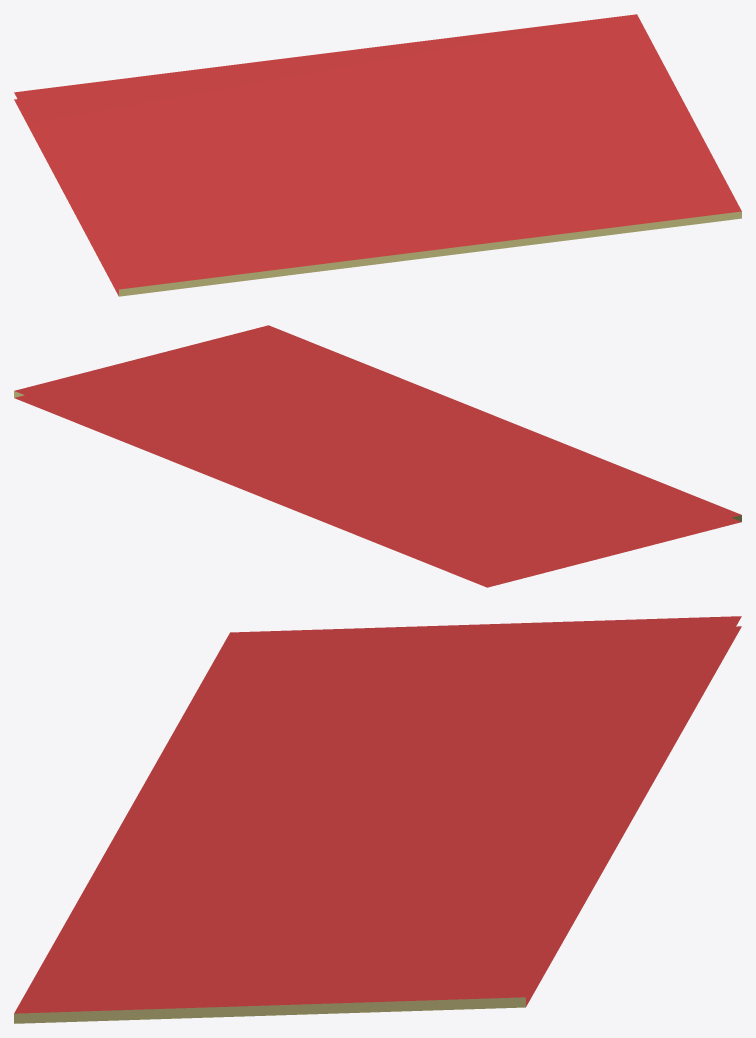
The picture shows the model from 3 angles, top to bottom: view 1: azimuth 30°, elevation 25°; view 2: azimuth 150°, elevation 25°; view 3: azimuth 270°, elevation 25°; orthographic projection. The views are drawn at different scales.
Bounding box in the file's own units: 9.1 × 6.47 × 0.768.
